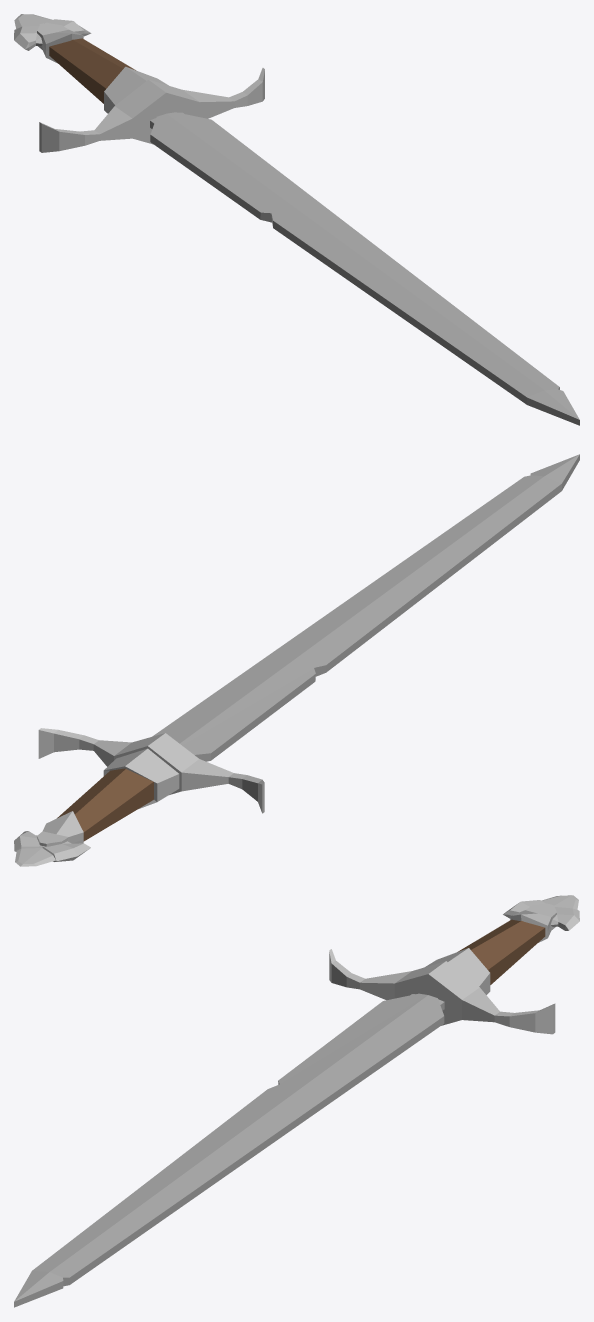
The model's file is 79_knife_1.fbx.
The picture shows the model from 3 angles, top to bottom: view 1: azimuth 30°, elevation 25°; view 2: azimuth 150°, elevation 25°; view 3: azimuth 330°, elevation 25°; orthographic projection.
Parts seen in each view (by area): view 1: 79_knife_1; view 2: 79_knife_1; view 3: 79_knife_1.
Boxes of the visible parts, left/top/right/bottom form: 79_knife_1: left=14, top=14, right=579, bottom=425; 79_knife_1: left=14, top=454, right=579, bottom=866; 79_knife_1: left=14, top=895, right=579, bottom=1307.
Size of the model in its own units: 51.93 by 12.31 by 225.
